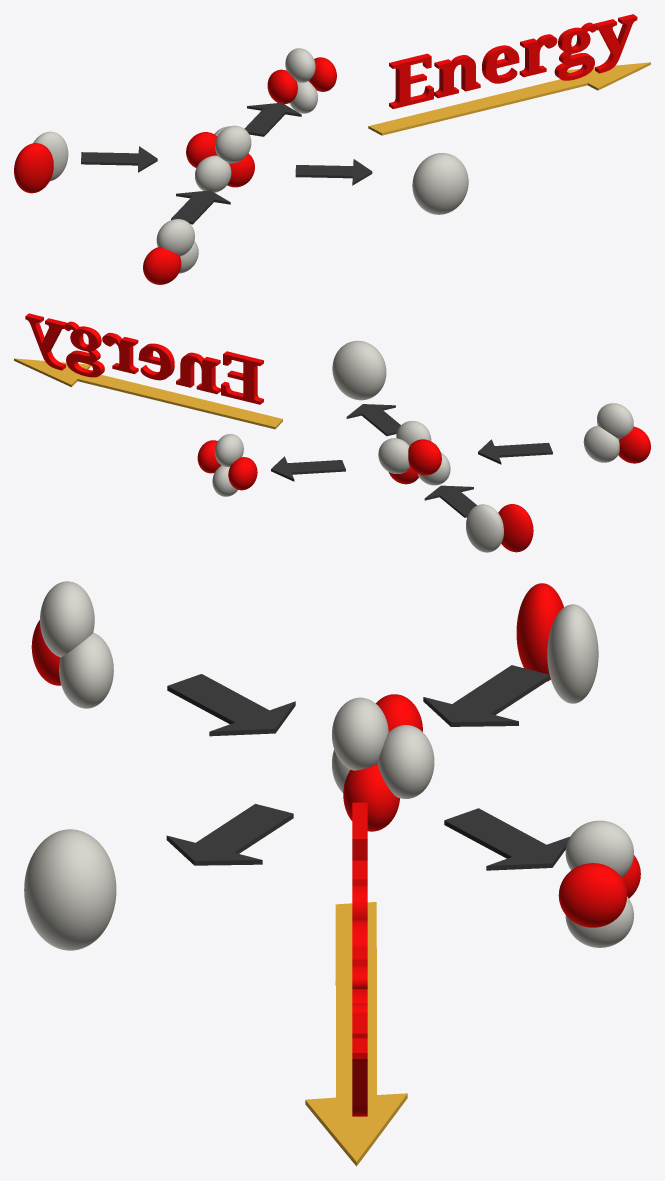
Rendered from nuclear_fusion.glb.
3 views of the same model, one above another, from view 1: azimuth 30°, elevation 25°; view 2: azimuth 150°, elevation 25°; view 3: azimuth 270°, elevation 25° (orthographic). The views are drawn at different scales.
Visible parts, largest first — view 1: Object_2, Object_3, Object_5, Object_6, Object_4; view 2: Object_2, Object_3, Object_5, Object_6, Object_4; view 3: Object_2, Object_6, Object_5, Object_4, Object_3.
Part boxes in pixels (left/top/right/bottom): Object_2: left=33, top=48, right=468, bottom=273; Object_3: left=389, top=14, right=637, bottom=108; Object_5: left=14, top=57, right=336, bottom=284; Object_6: left=81, top=102, right=372, bottom=224; Object_4: left=368, top=62, right=650, bottom=135; Object_2: left=212, top=340, right=633, bottom=552; Object_3: left=25, top=313, right=263, bottom=404; Object_5: left=197, top=426, right=650, bottom=552; Object_6: left=271, top=404, right=552, bottom=517; Object_4: left=14, top=358, right=282, bottom=429; Object_2: left=24, top=581, right=633, bottom=950; Object_6: left=166, top=665, right=569, bottom=870; Object_5: left=31, top=583, right=640, bottom=927; Object_4: left=305, top=902, right=407, bottom=1166; Object_3: left=352, top=802, right=367, bottom=1116.
Bounding box in the file's own units: 127 × 18 × 60.12.
